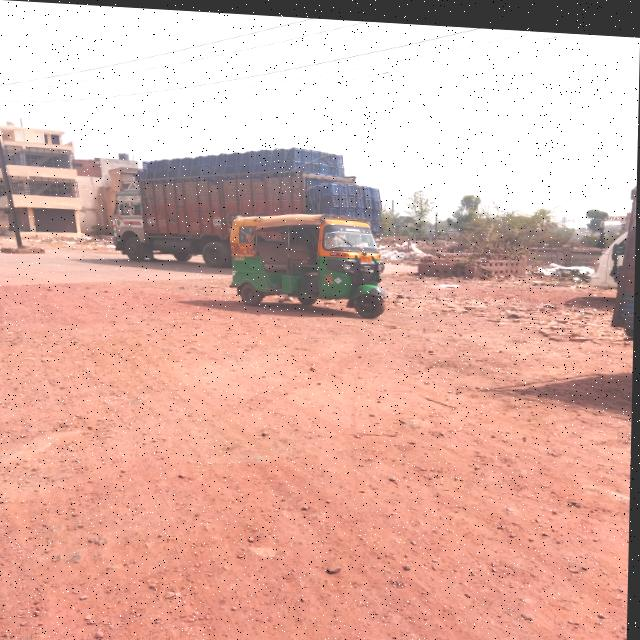plate: (360, 250, 374, 258)
